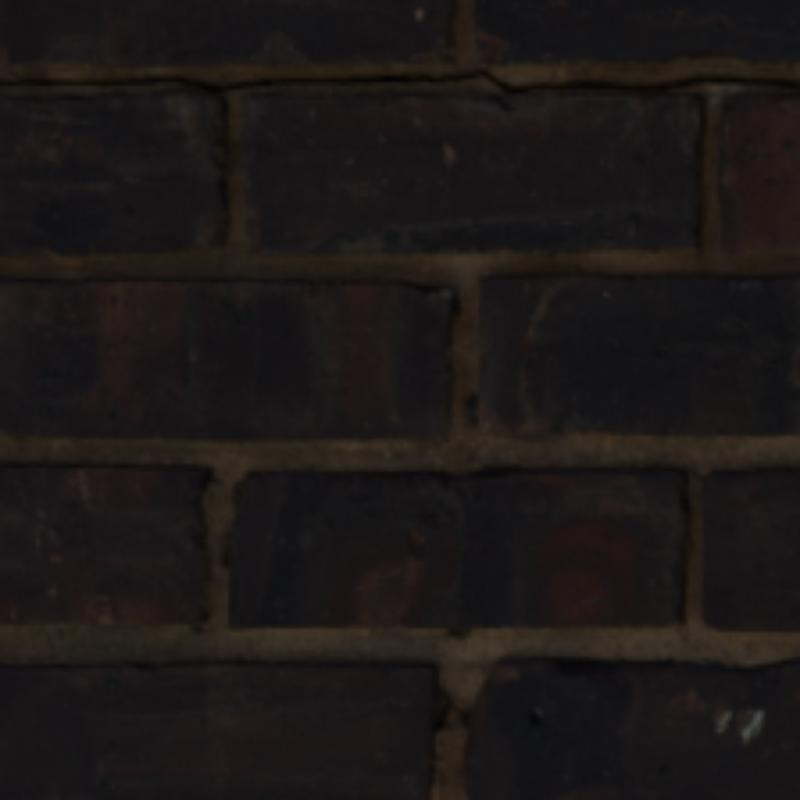pothole: (0, 68, 796, 96)
